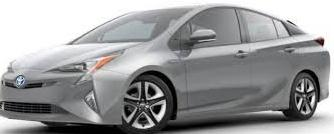Cars: (1, 6, 331, 134)
